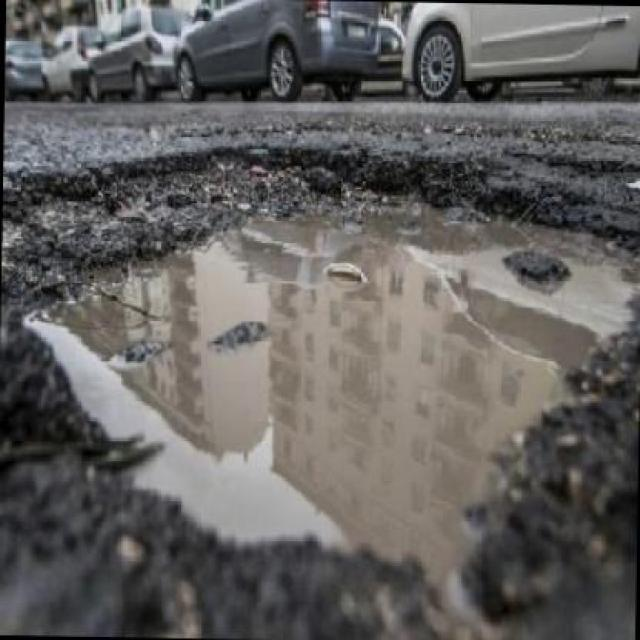pothole1: (0, 123, 638, 601)
